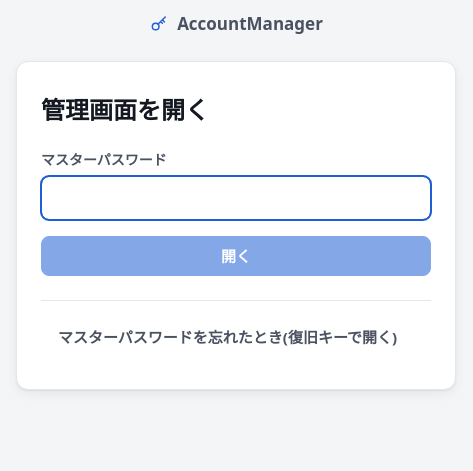
Test case: 管理画面を開く › 違うマスターパスワードなら、開かずに知らせ、もう一度押せる
Type "wrong" into the password field labelled "マスターパスワード" at x=236, y=198, box [41,176,431,220]
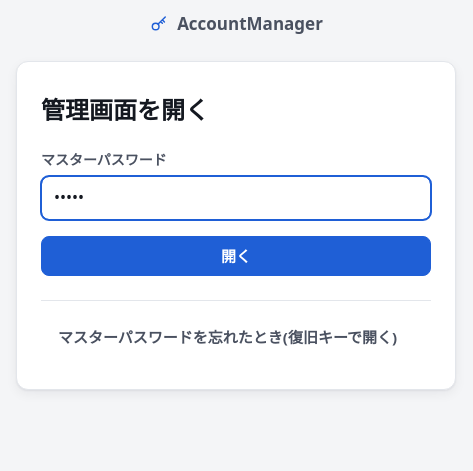
Click the button "開く" at x=236, y=256, box [41,236,431,276]
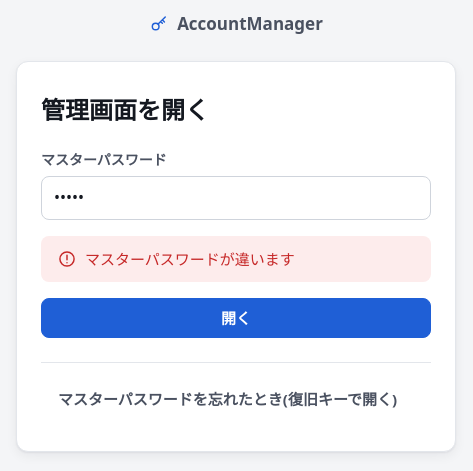
Now the button "開く" is enabled, box [41,298,431,338]
Now the message reads "マスターパスワードが違います", box [85,249,295,269]
